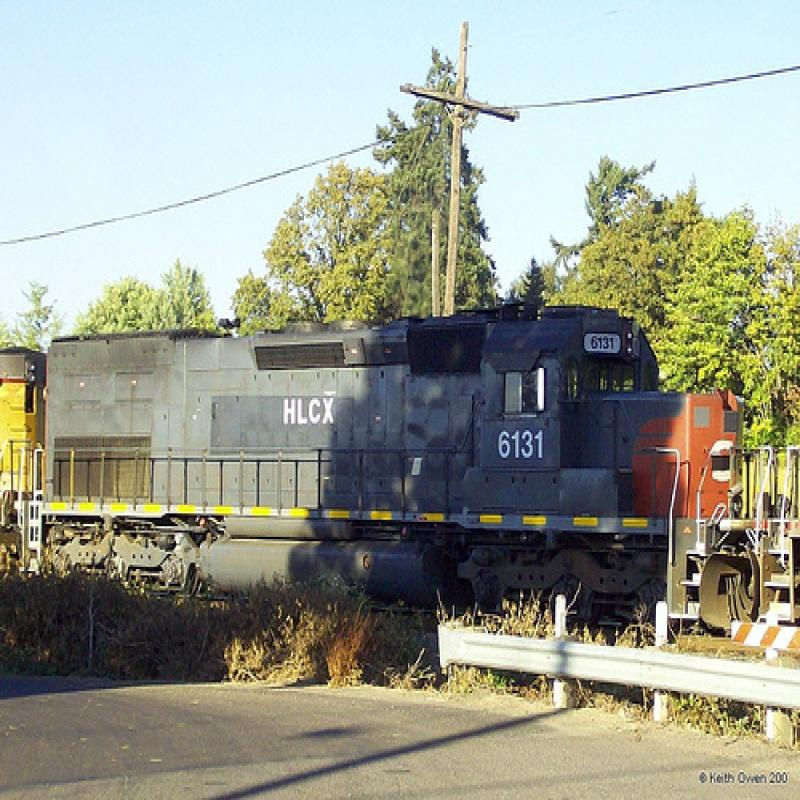train: (3, 303, 761, 632)
